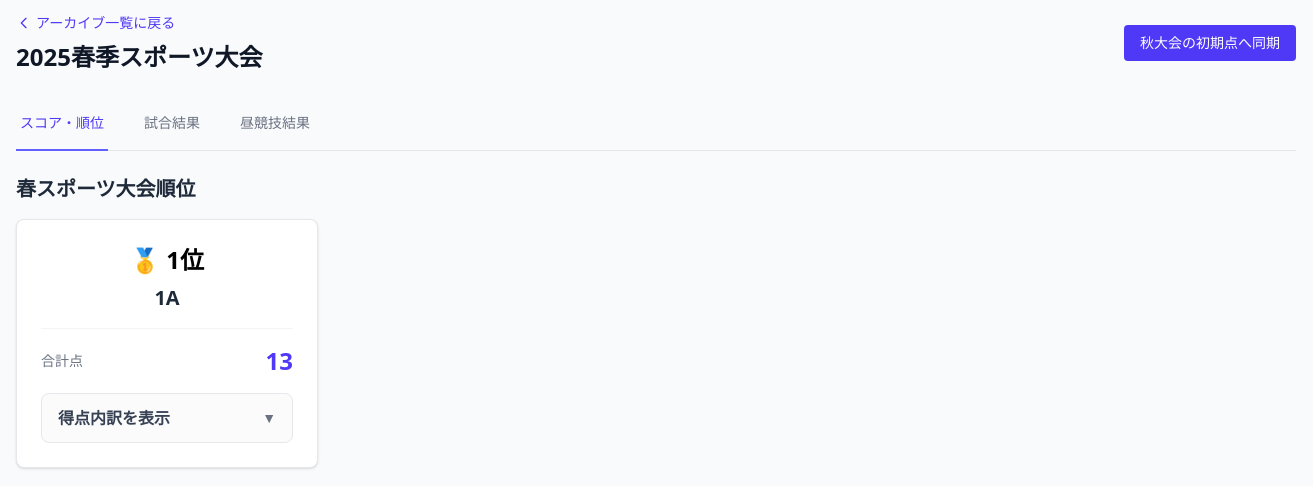
Test: Archive Event Detail Page › トーナメントが空配列なら未検出メッセージを表示すること
Click the button "試合結果".
click(172, 124)  # box left=140, top=97, right=204, bottom=151
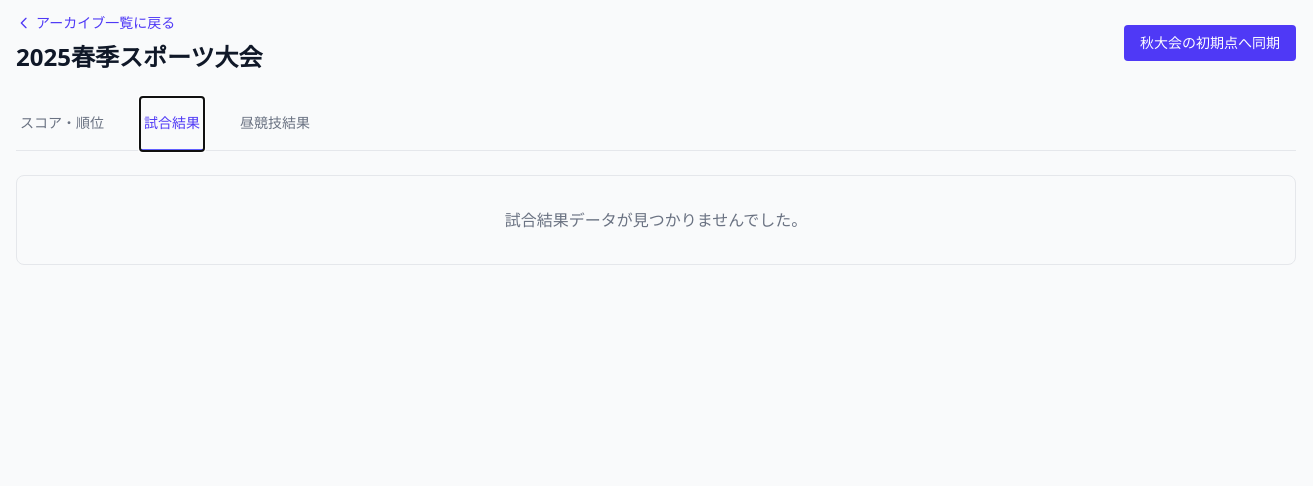
Expected: the text "試合結果データが見つかりませんでした。" is shown, left=16, top=175, right=1296, bottom=265
